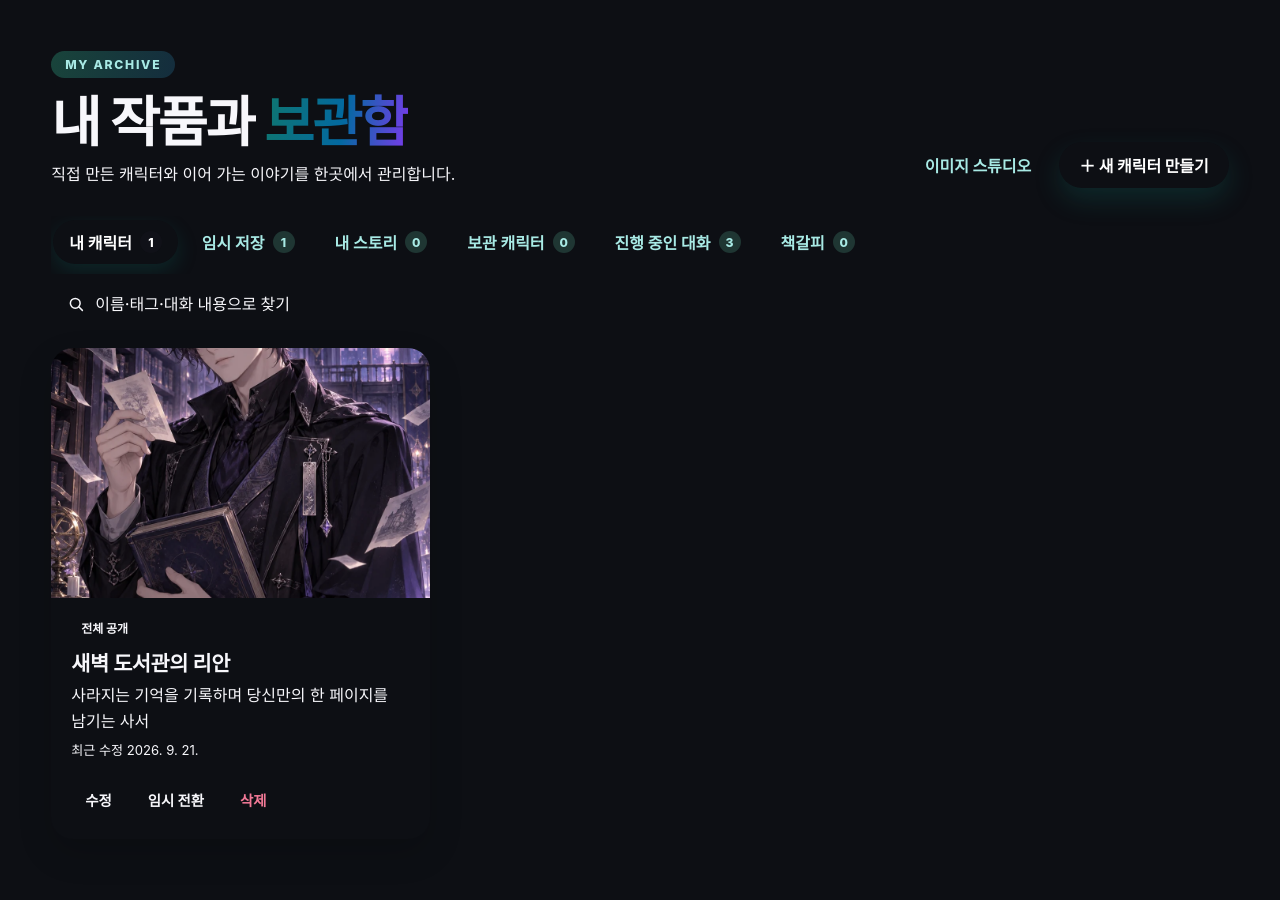
Scenario: 로컬 보관함 › 제작 캐릭터를 공개와 임시 저장 탭으로 구분한다
Expected: the link "새벽 도서관의 리안" is shown, 71,651 -> 230,676
Click the tab "임시 저장 1" at (248, 242), box 186,220 -> 311,264
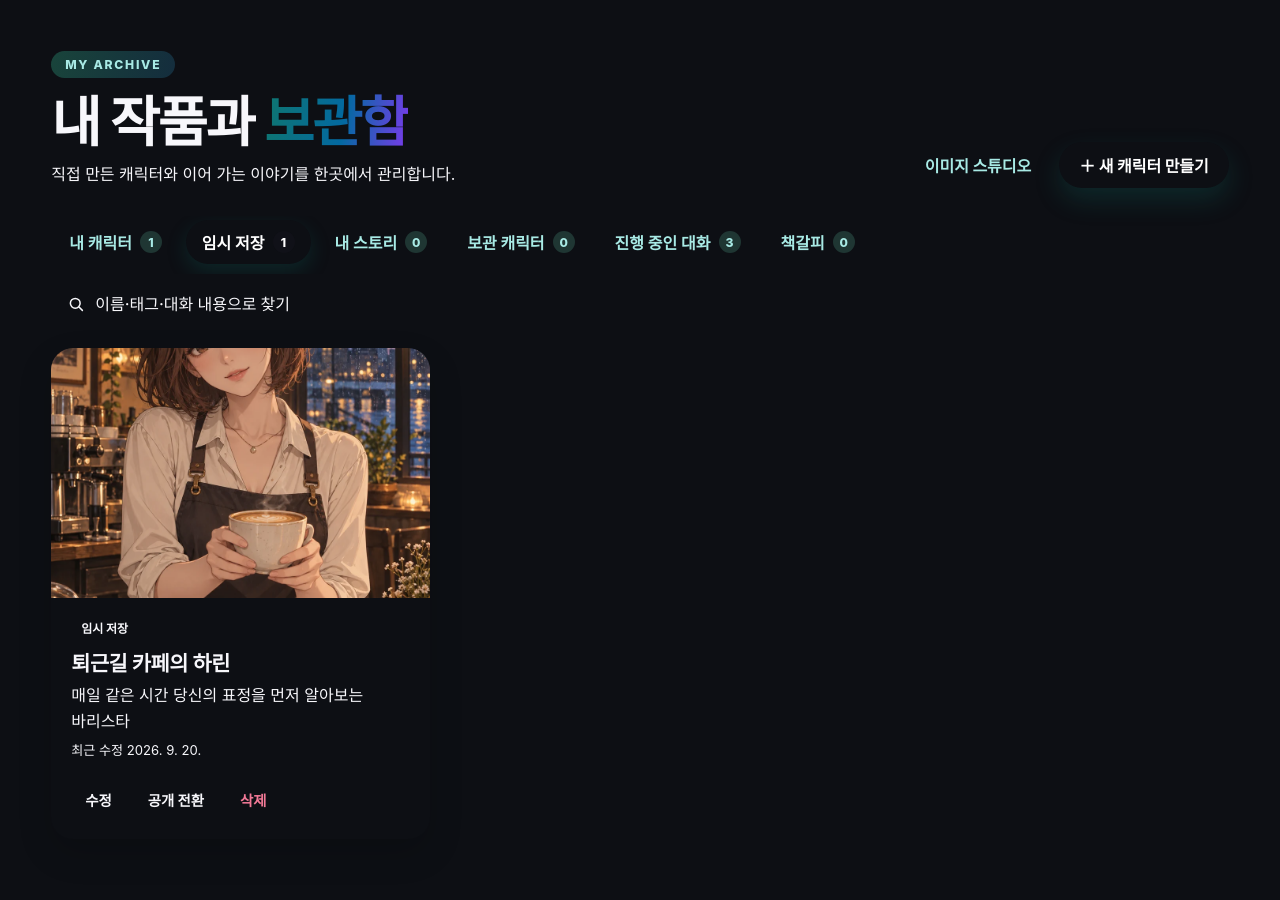
Expected: the link "퇴근길 카페의 하린" is shown, 71,651 -> 230,676
